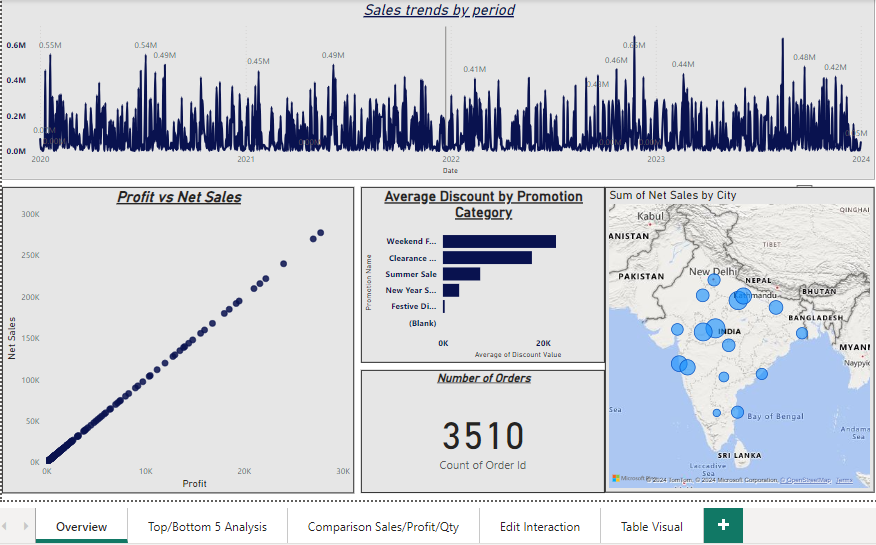

The page's visual inventory and layout, read from the dashboard file:
{"tool":"powerbi","page":{"name":"Overview","canvas":[1280,720],"ordinal":0},"visuals":[{"type":"lineChart","title":"Sales trends by period","fields":{"Y":["Sum(Fact Table.Net Sales)"],"Category":["Fact Table.Date.Variation.Date Hierarchy.Year"]},"box":[0,0,1255.7,257.8],"z":0},{"type":"scatterChart","title":"Profit vs Net Sales","fields":{"X":["Fact Table.Profit"],"Y":["Fact Table.Net Sales"]},"box":[0,269.3,506.9,440.6],"z":1000},{"type":"barChart","title":"Average Discount by Promotion Category","fields":{"Y":["Avg(Fact Table.Discount Value)"],"Category":["Dim Promotion.Promotion Name"]},"box":[517,269.3,351.4,253.4],"z":2000},{"type":"map","fields":{"Category":["Dim Customers.City"],"Size":["Sum(Fact Table.Net Sales)"]},"box":[878.4,257.8,377.3,452.2],"z":3000},{"type":"card","title":"Number of Orders","fields":{"Values":["CountNonNull(Fact Table.Order Id)"]},"box":[517,532.8,351.4,177.1],"z":4000}]}

Visuals, with their boxes on the page's 1280x720 design canvas (x1, y1, x2, y2). These are canvas units, not pixel positions in the 876x545 screenshot, which may show the page scaled, cropped or inside an application window:
"Sales trends by period" lineChart: {"x1": 0, "y1": 0, "x2": 1256, "y2": 258}
"Profit vs Net Sales" scatterChart: {"x1": 0, "y1": 269, "x2": 507, "y2": 710}
"Average Discount by Promotion Category" barChart: {"x1": 517, "y1": 269, "x2": 868, "y2": 523}
map - Dim Customers.City x Sum(Fact Table.Net Sales): {"x1": 878, "y1": 258, "x2": 1256, "y2": 710}
"Number of Orders" card: {"x1": 517, "y1": 533, "x2": 868, "y2": 710}
